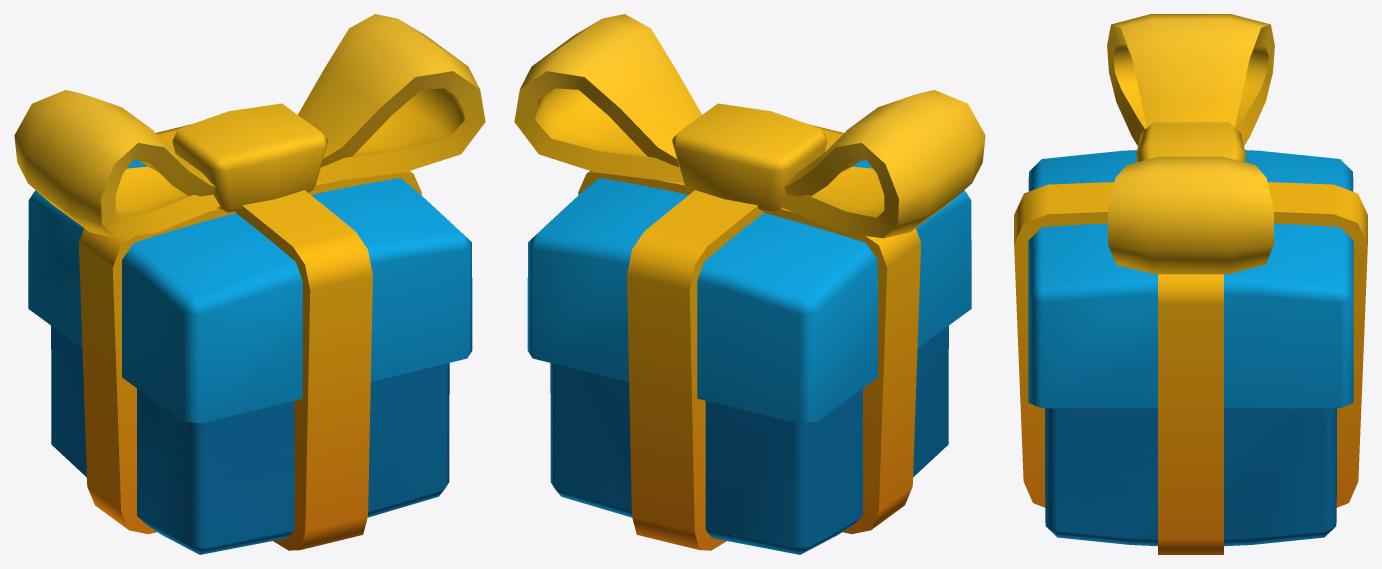
Rendered from Present_005.fbx.
3 renders of one model, left to right at view 1: azimuth 30°, elevation 25°; view 2: azimuth 150°, elevation 25°; view 3: azimuth 270°, elevation 25°, orthographic. The views are drawn at different scales.
Visible parts, largest first — view 1: Present_005; view 2: Present_005; view 3: Present_005.
Part boxes in pixels (x1,y1,x2,y2): Present_005: (14,14,485,554); Present_005: (514,14,985,554); Present_005: (1014,14,1367,554).
Bounding box in the file's own units: 0.69 × 0.6956 × 0.5362.
